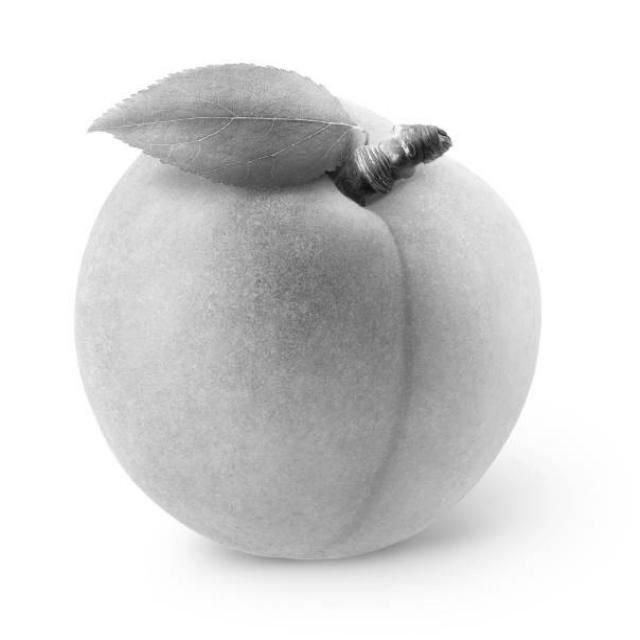Kayisi: (80, 102, 540, 563)
Kayisi Yapragi: (86, 69, 353, 188)
